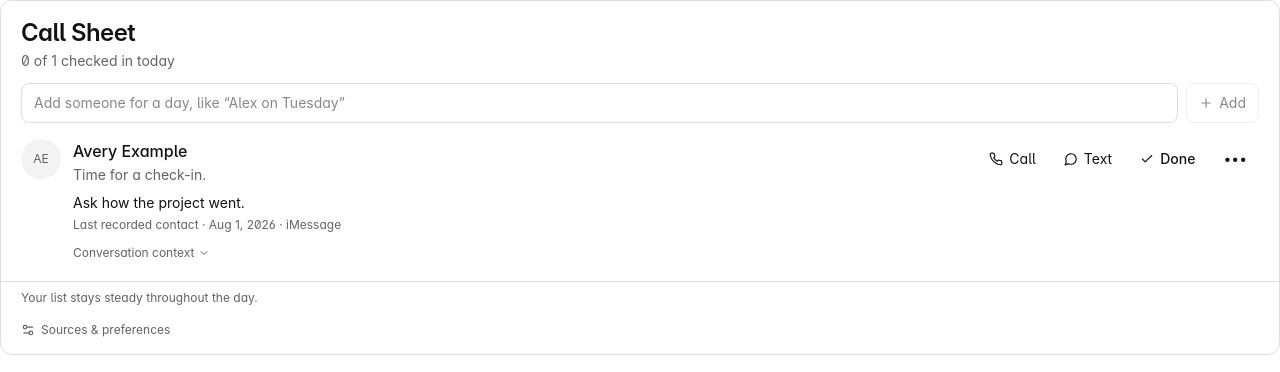
Test case: daily call sheet › logs a text from the row as a text check-in
What coordinates should you click on to do the following:
click the button "Text"
I would click on:
 (1088, 159)
Its box is [1052,139,1124,179].
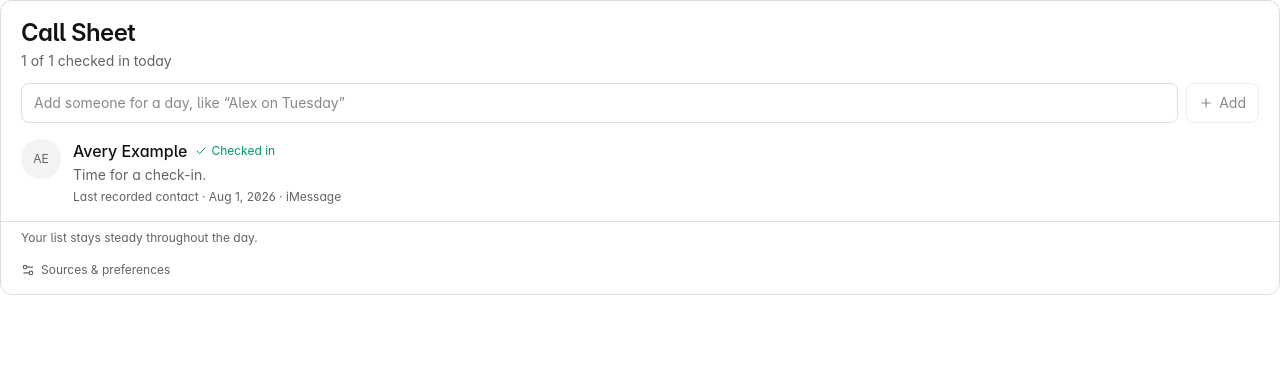
Check: the text "1 of 1 checked in" is shown, box [21,52,172,69]
